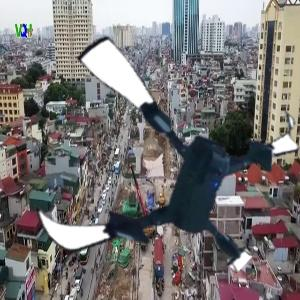drone: (25, 30, 292, 297)
